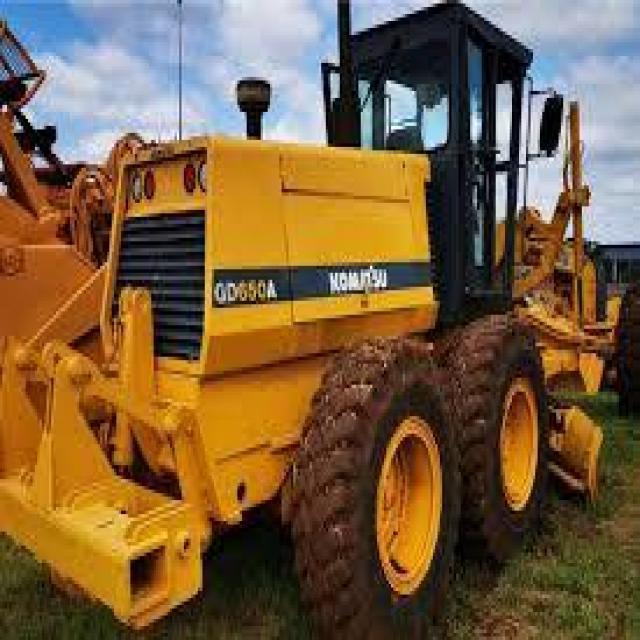buldozerpayloadergrader: (12, 7, 638, 630)
